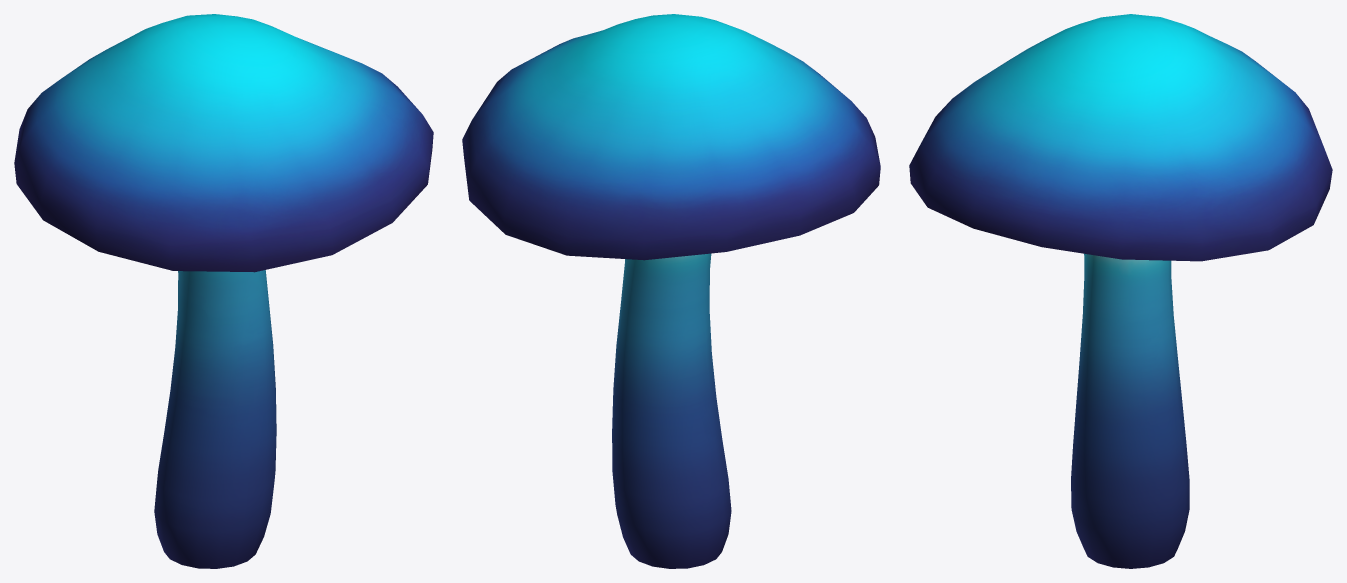
Rendered from Mushroom002.fbx.
3 views of the same model, side by side, from view 1: azimuth 30°, elevation 25°; view 2: azimuth 150°, elevation 25°; view 3: azimuth 270°, elevation 25° (orthographic).
Parts seen in each view (by area): view 1: Mushroom02; view 2: Mushroom02; view 3: Mushroom02.
Part boxes in pixels (box(x1,y1,x2,y2)): Mushroom02: box(14, 14, 433, 568); Mushroom02: box(462, 14, 880, 568); Mushroom02: box(909, 14, 1332, 568).
Bounding box in the file's own units: 333 × 452 × 333.
1 material, 1 textured.
